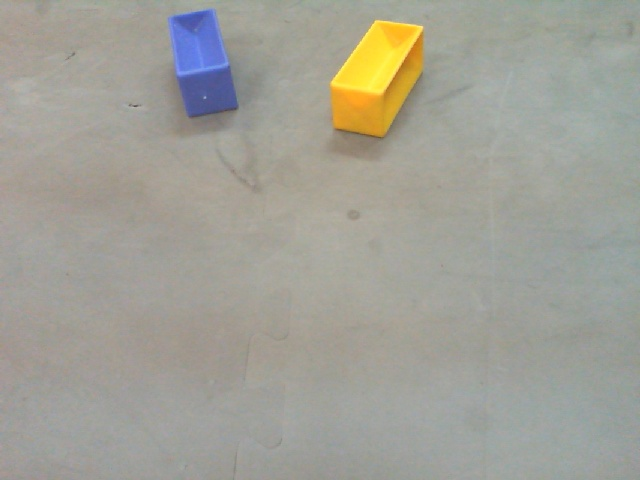BlueSample: (167, 9, 243, 121)
YellowSample: (328, 19, 427, 140)
